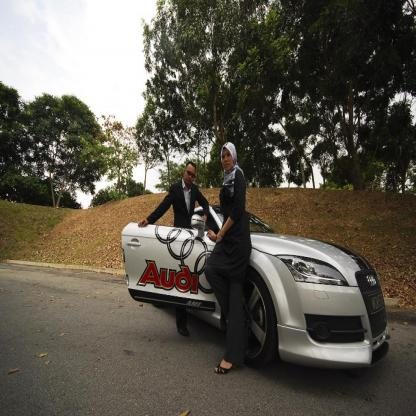Car: (123, 208, 380, 382)
